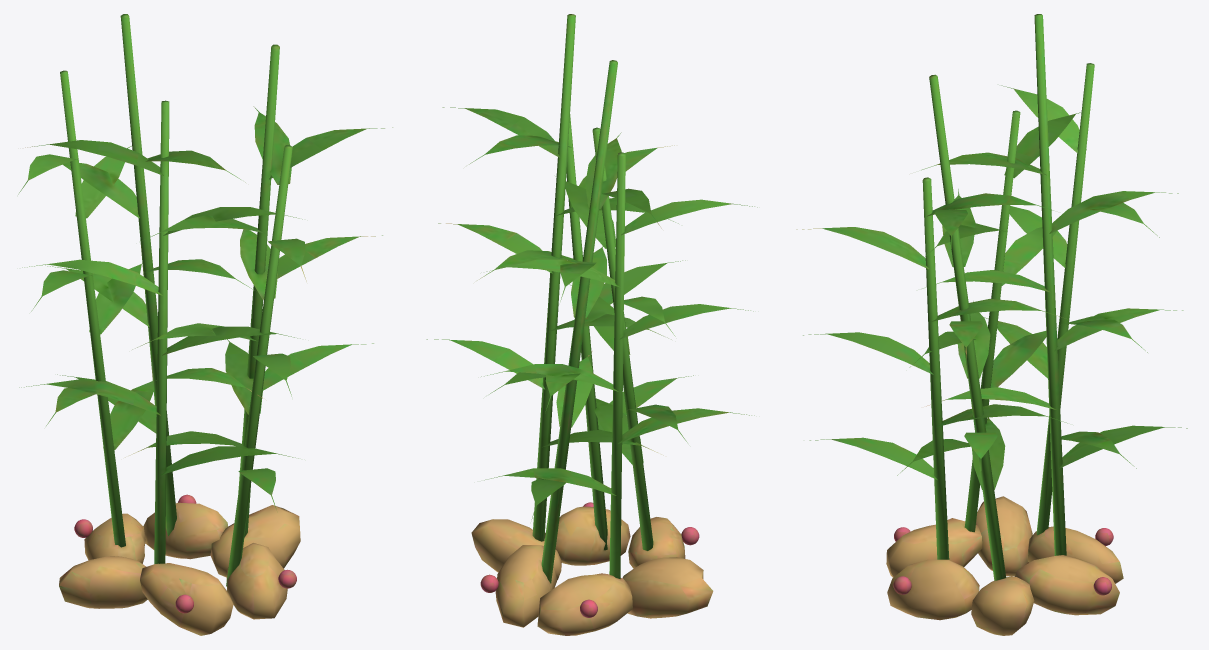
The model's file is crop_ginger.glb.
The picture shows the model from 3 angles, left to right: view 1: azimuth 30°, elevation 25°; view 2: azimuth 150°, elevation 25°; view 3: azimuth 270°, elevation 25°; orthographic projection. The views are drawn at different scales.
Parts seen in each view (by area): view 1: crop_ginger, fruit; view 2: crop_ginger, fruit; view 3: crop_ginger, fruit.
Part boxes in pixels (bbox=[...]): crop_ginger: bbox=[18, 14, 392, 613]; fruit: bbox=[59, 502, 300, 635]; crop_ginger: bbox=[426, 14, 757, 617]; fruit: bbox=[471, 506, 713, 635]; crop_ginger: bbox=[796, 14, 1187, 595]; fruit: bbox=[886, 496, 1123, 635].
Size of the model in its own units: 0.2615 by 0.4028 by 0.2601.
Materials: 1 (1 with a texture image).
